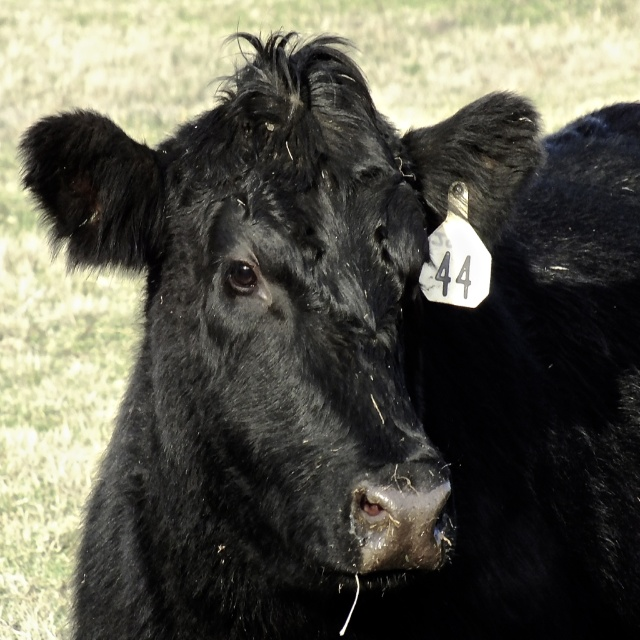Cattle: (15, 17, 639, 639)
